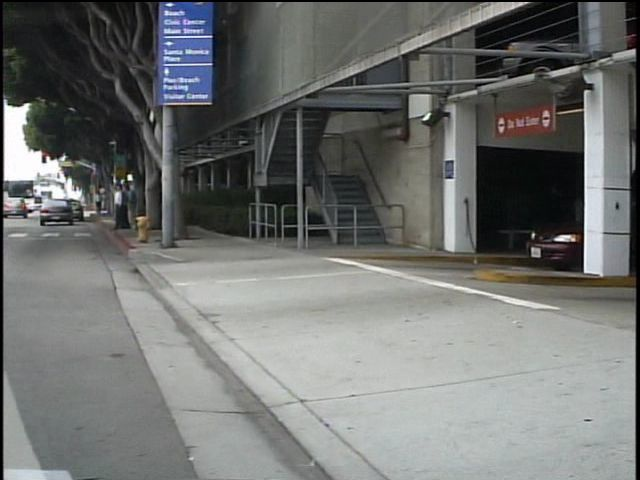person: (98, 186, 114, 220)
